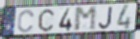4: (116, 4, 133, 31), (58, 7, 73, 33)
C: (17, 9, 36, 34), (38, 8, 55, 33)
J: (98, 6, 114, 31)
M: (74, 6, 98, 33)
